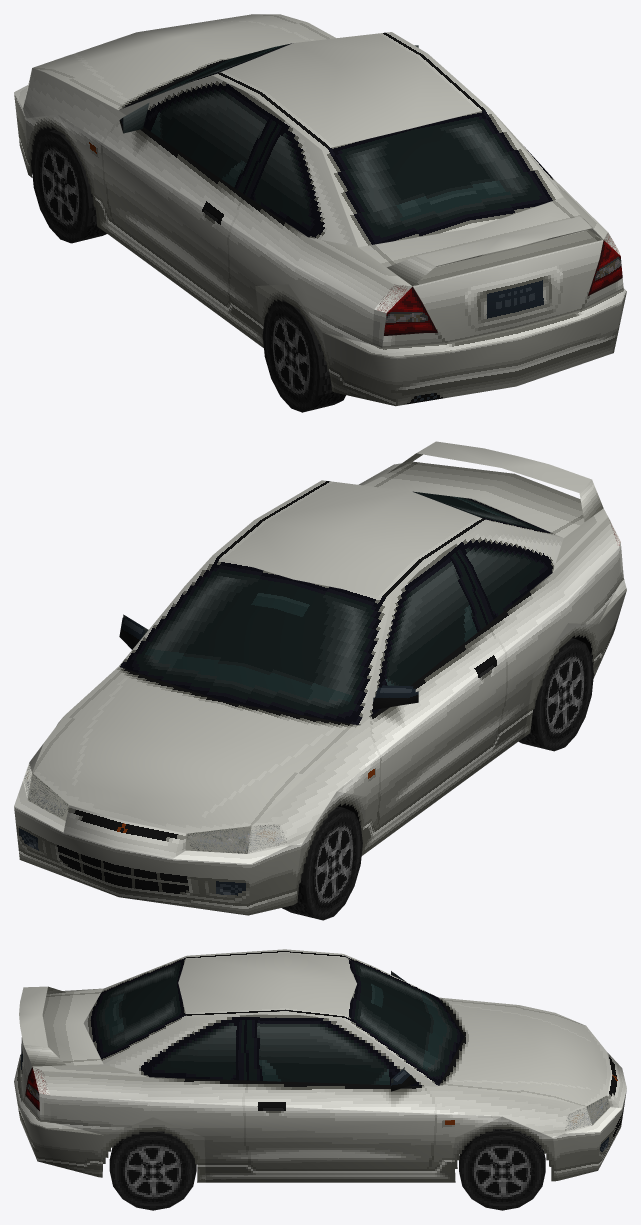
Rendered from GT_SIMULATION__MMGRN.glb.
The picture shows the model from 3 angles, top to bottom: view 1: azimuth 30°, elevation 25°; view 2: azimuth 150°, elevation 25°; view 3: azimuth 270°, elevation 25°; orthographic projection. The views are drawn at different scales.
Parts seen in each view (by area): view 1: Native body LOD0, Native wheel 2, Native wheel 0; view 2: Native body LOD0, Native wheel 0, Native wheel 2; view 3: Native body LOD0, Native wheel 1, Native wheel 3.
Boxes of the visible parts, x1,y1,x2,y2 form: Native body LOD0: (14, 14, 626, 406); Native wheel 2: (262, 299, 345, 412); Native wheel 0: (31, 129, 106, 243); Native body LOD0: (14, 441, 626, 915); Native wheel 0: (282, 806, 362, 920); Native wheel 2: (518, 638, 593, 751); Native body LOD0: (14, 949, 626, 1182); Native wheel 1: (459, 1129, 545, 1210); Native wheel 3: (109, 1131, 196, 1210).
Size of the model in its own units: 1.8 by 1.42 by 4.28.
10 materials, 8 textured.
